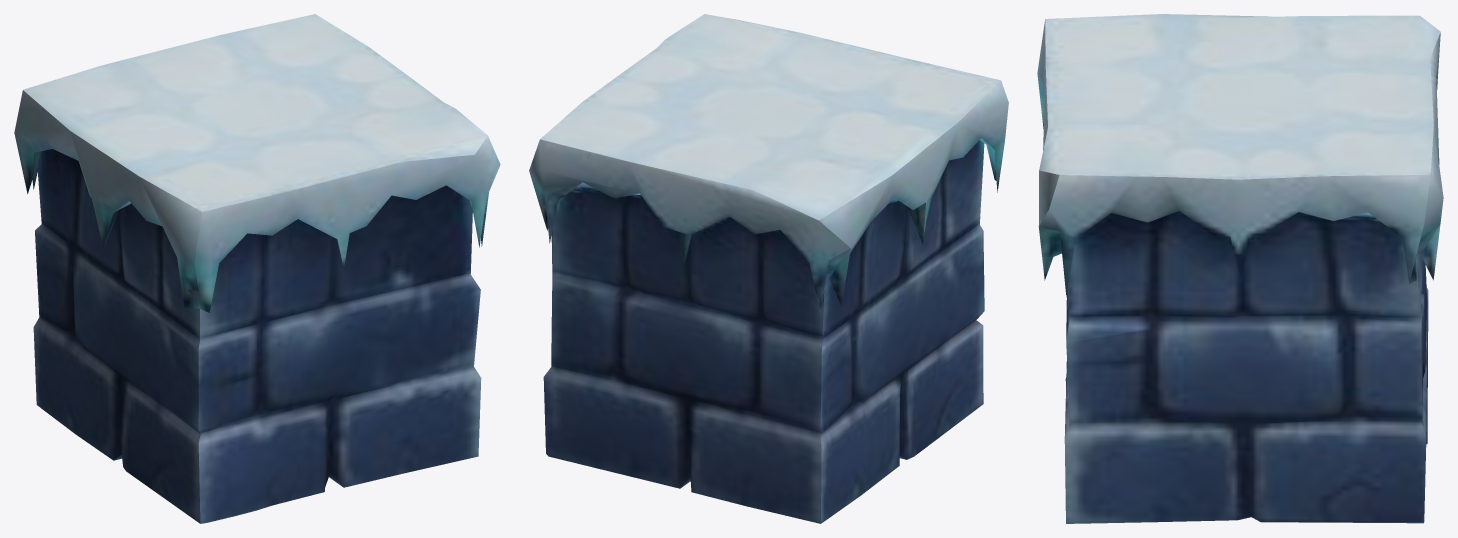
File: b_givre_mur_1.glb
The picture shows the model from 3 angles, left to right: view 1: azimuth 30°, elevation 25°; view 2: azimuth 150°, elevation 25°; view 3: azimuth 270°, elevation 25°; orthographic projection. The views are drawn at different scales.
Visible parts, largest first — view 1: geometry_0; view 2: geometry_0; view 3: geometry_0.
Boxes of the visible parts, bbox=[...] form: geometry_0: bbox=[14, 14, 500, 523]; geometry_0: bbox=[529, 14, 1008, 523]; geometry_0: bbox=[1037, 14, 1443, 523].
Size of the model in its own units: 1 by 0.9613 by 1.
Materials: 1 (1 with a texture image).
